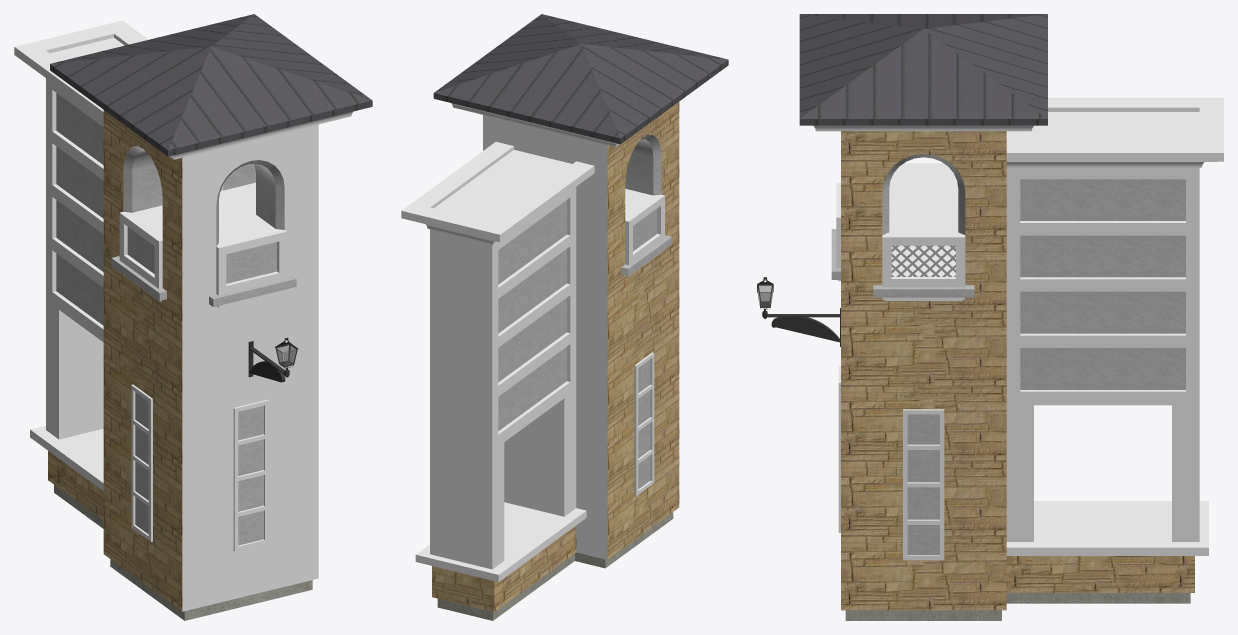
The model's file is Pylon.fbx.
3 renders of one model, left to right at view 1: azimuth 30°, elevation 25°; view 2: azimuth 150°, elevation 25°; view 3: azimuth 270°, elevation 25°, orthographic. The views are drawn at different scales.
Visible parts, largest first — view 1: Model; view 2: Model; view 3: Model.
Part boxes in pixels (x1,y1,x2,y2): Model: (14, 14, 372, 620); Model: (401, 14, 728, 620); Model: (757, 14, 1223, 620).
Bounding box in the file's own units: 108 × 268 × 203.
